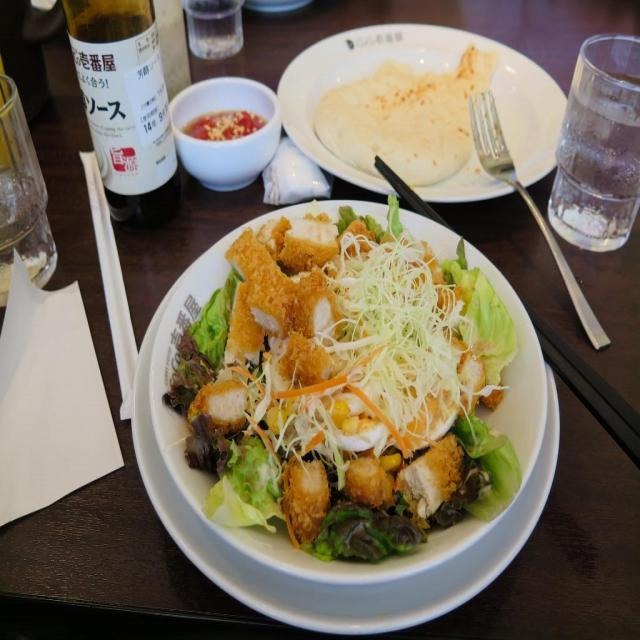Salad: (161, 190, 523, 574)
